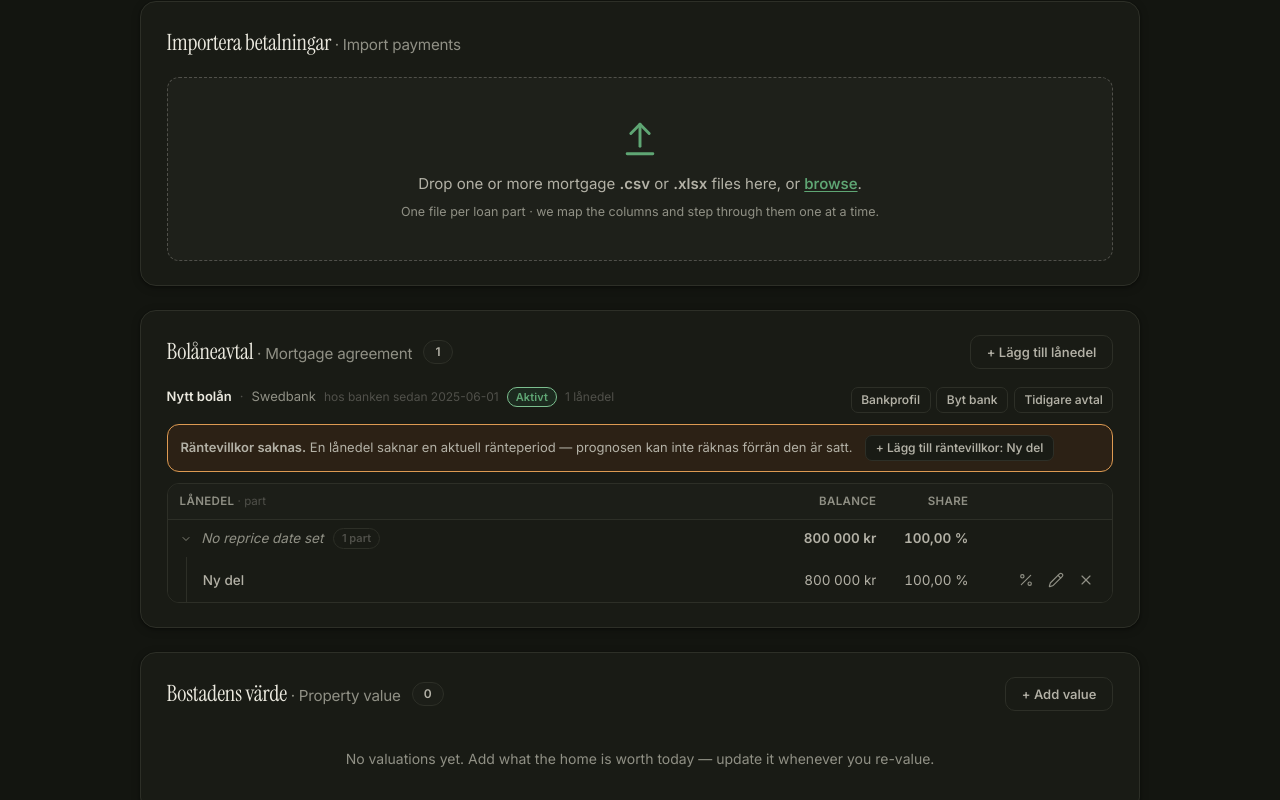
Test: Bolanekoll — Tidigare avtal + Ångra bankbyte (plan 109c Stage 2) › renders the archived agreement as Avslutat with its rows scoped to it, and offers Ångra bankbyte while the new agreement is transaction-free
(page scrolled)
Click the button "Tidigare avtal": (1064, 400) [1014,387,1113,413]
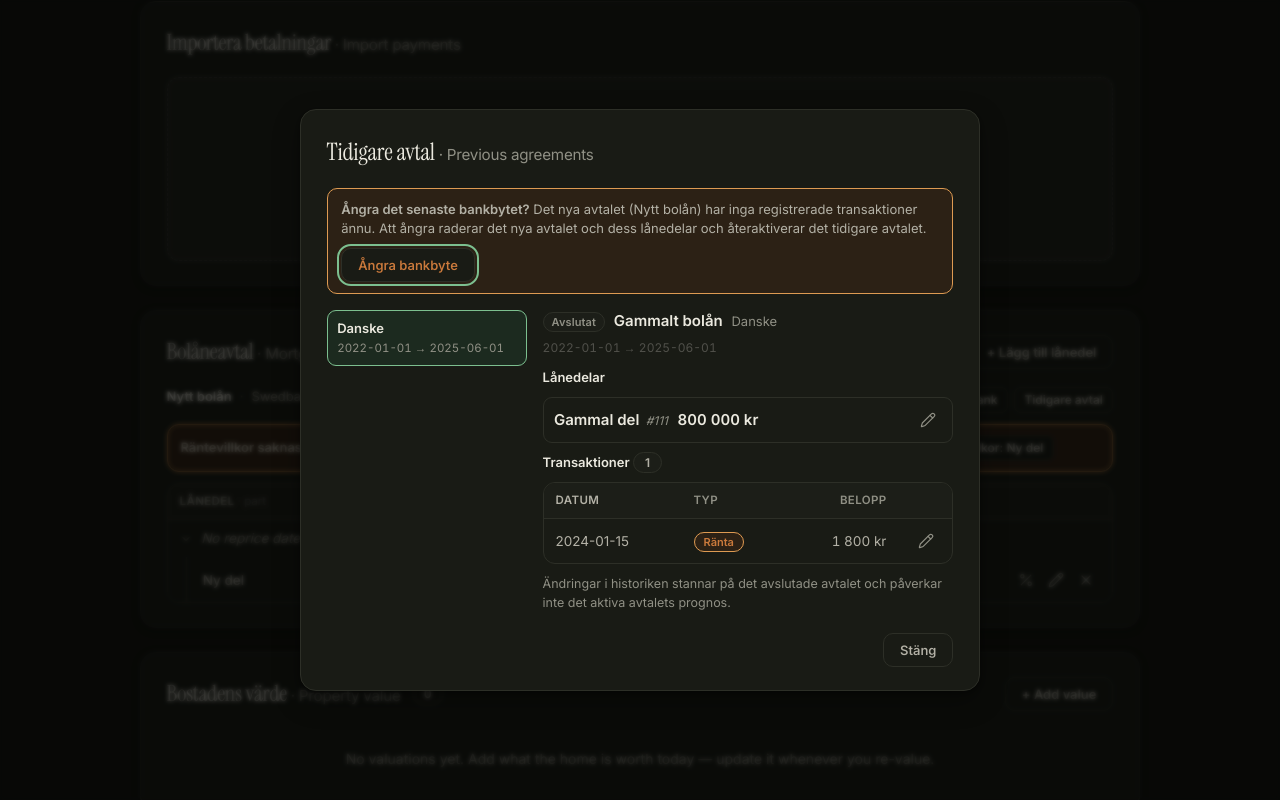
Result: the text "Avslutat" is shown at [543,312,605,332]
Result: the text "Gammal del" is shown at [554,410,639,429]
Result: the text "Ränta" is shown at [694,532,744,552]
